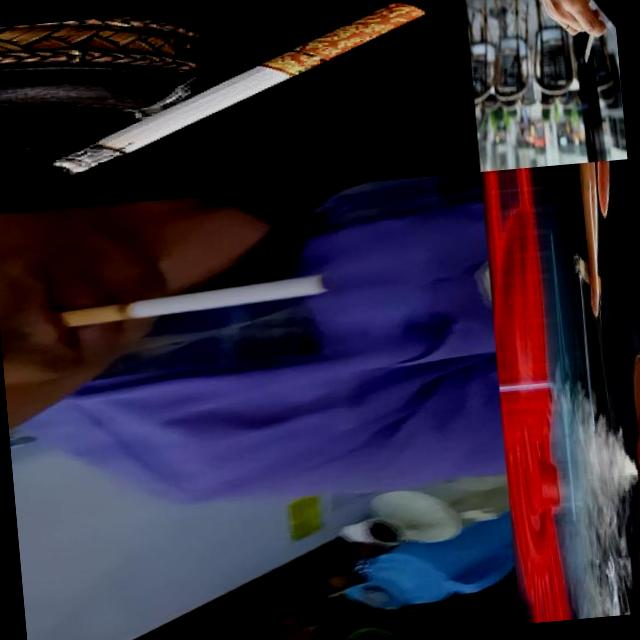cigarette: (34, 1, 440, 180), (56, 272, 332, 328), (572, 248, 602, 300), (580, 7, 604, 64)
